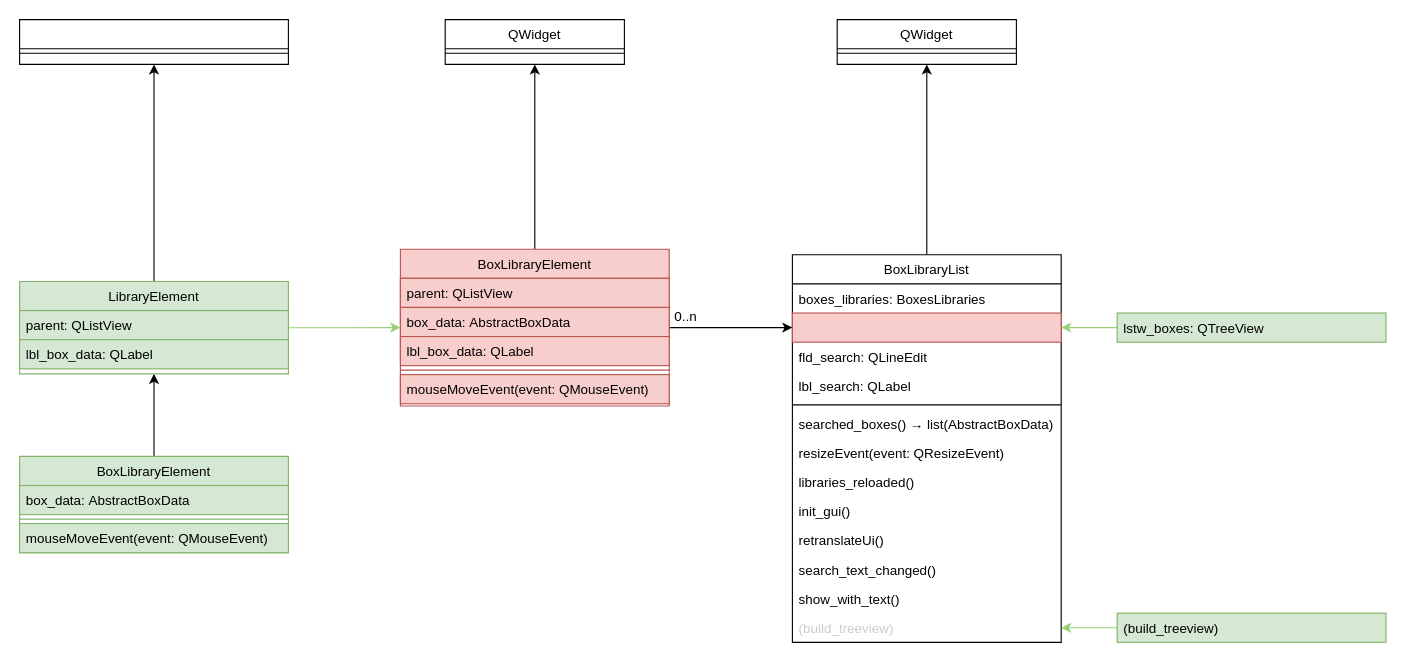
Image size: 1406x665. Some labels were removed from this diagram. Each missing label, with the centre of its shape:
"lstw_boxes: QListWidget" goes at (926,327).
"QStandardItem" goes at (153,41).
